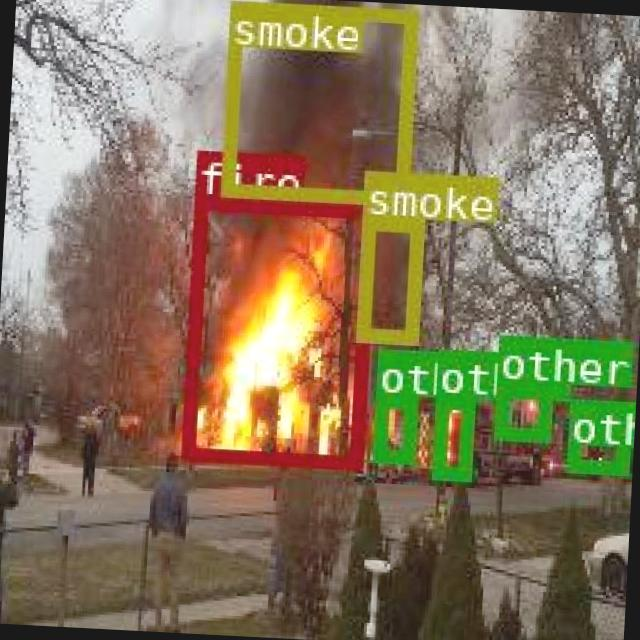fire: (180, 194, 374, 468)
smoke: (218, 0, 415, 202), (356, 214, 422, 340)
